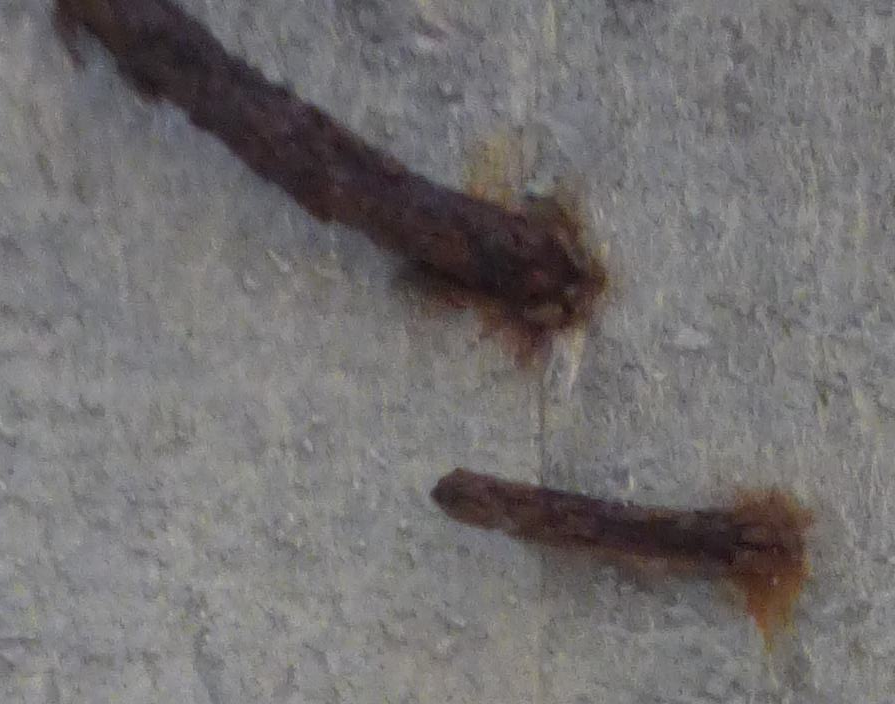Exposed reinforcement: (53, 1, 574, 320), (426, 465, 770, 568)
